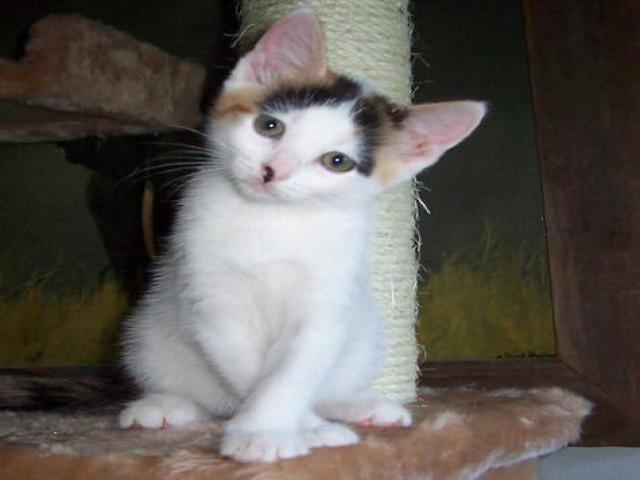cat: (71, 9, 488, 452)
